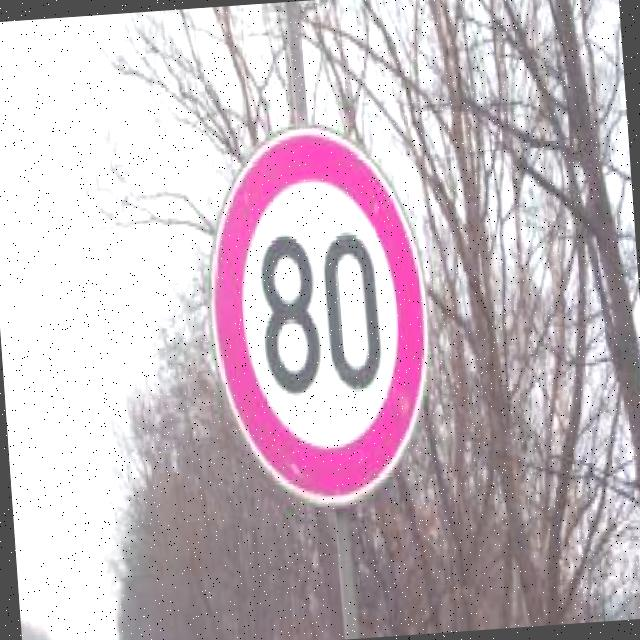Ograniczenie predkosci do 80: (215, 154, 422, 483)
